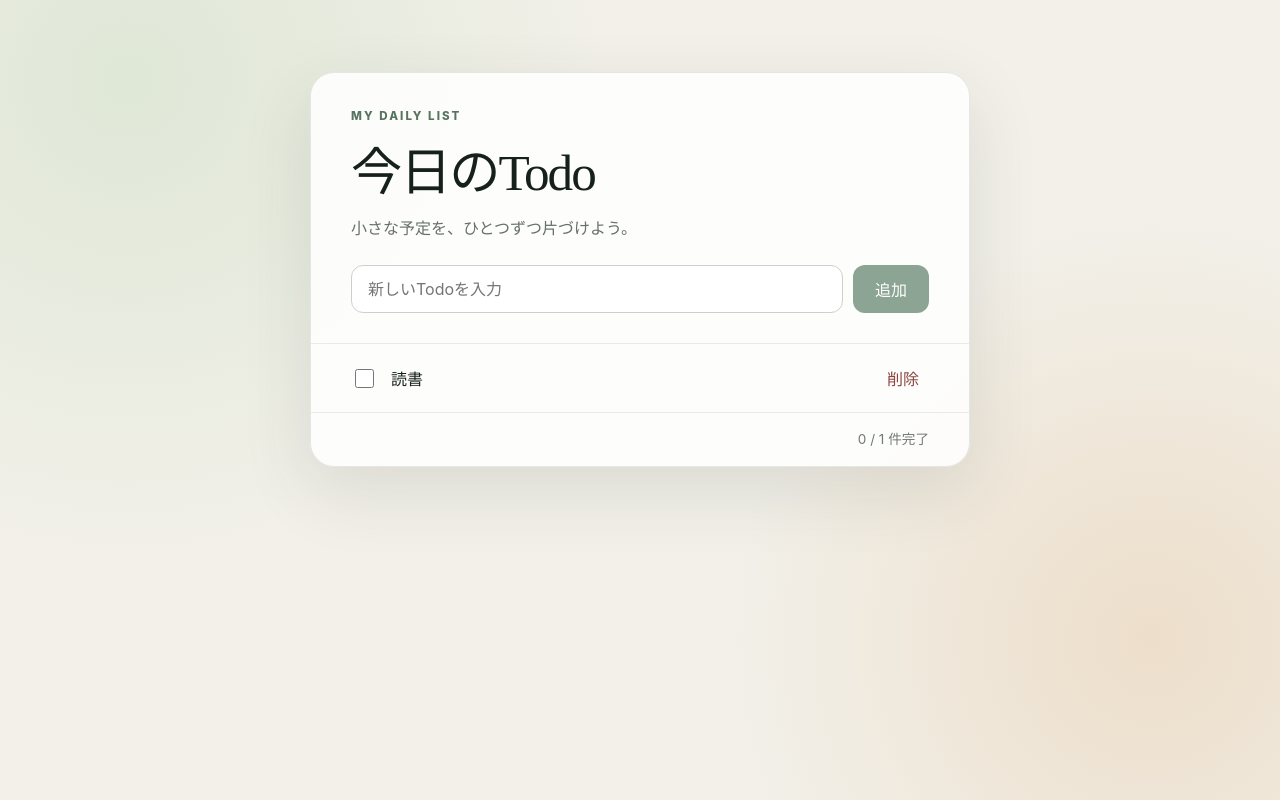
Test: App › Todoを削除する
Click the button with aria-label "読書を削除": click(903, 378) [877,360,929,396]
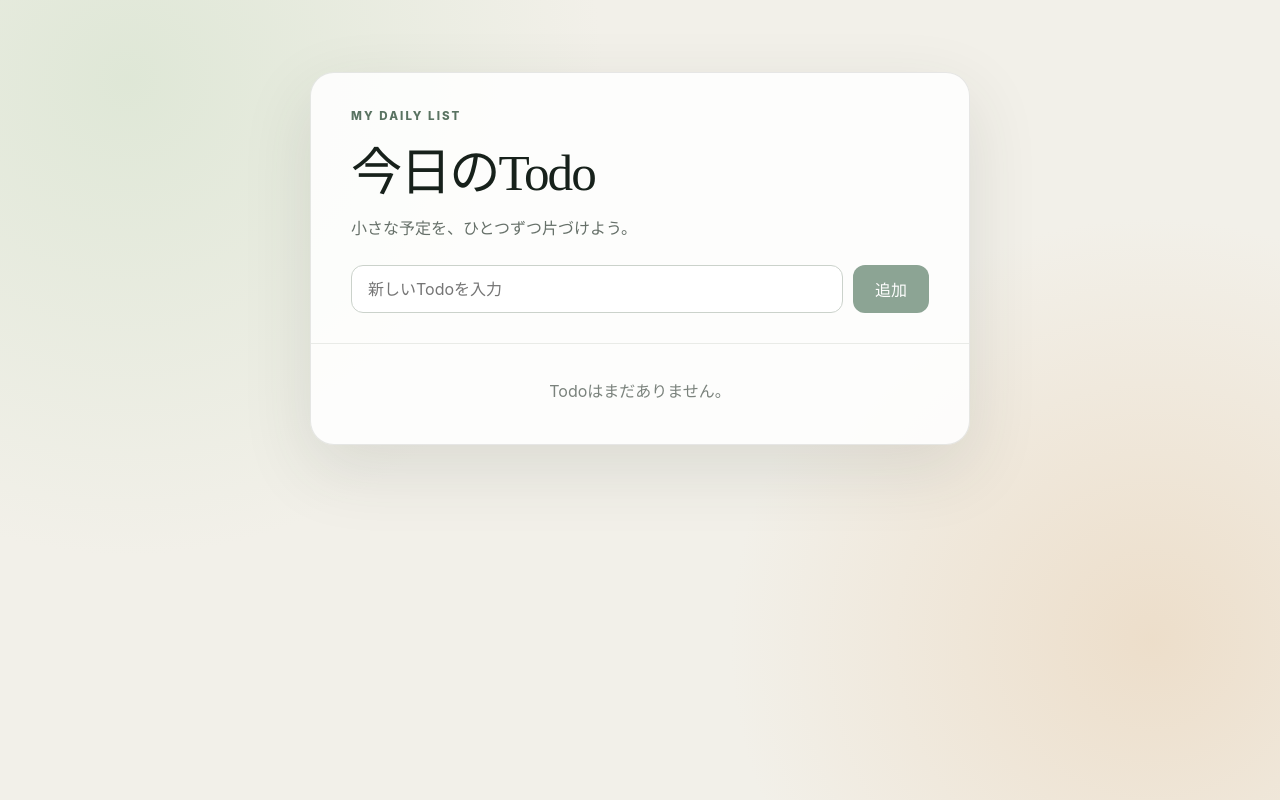
Expected: the text "読書" is gone
Expected: the text "Todoはまだありません。" is shown, [311,343,969,444]
